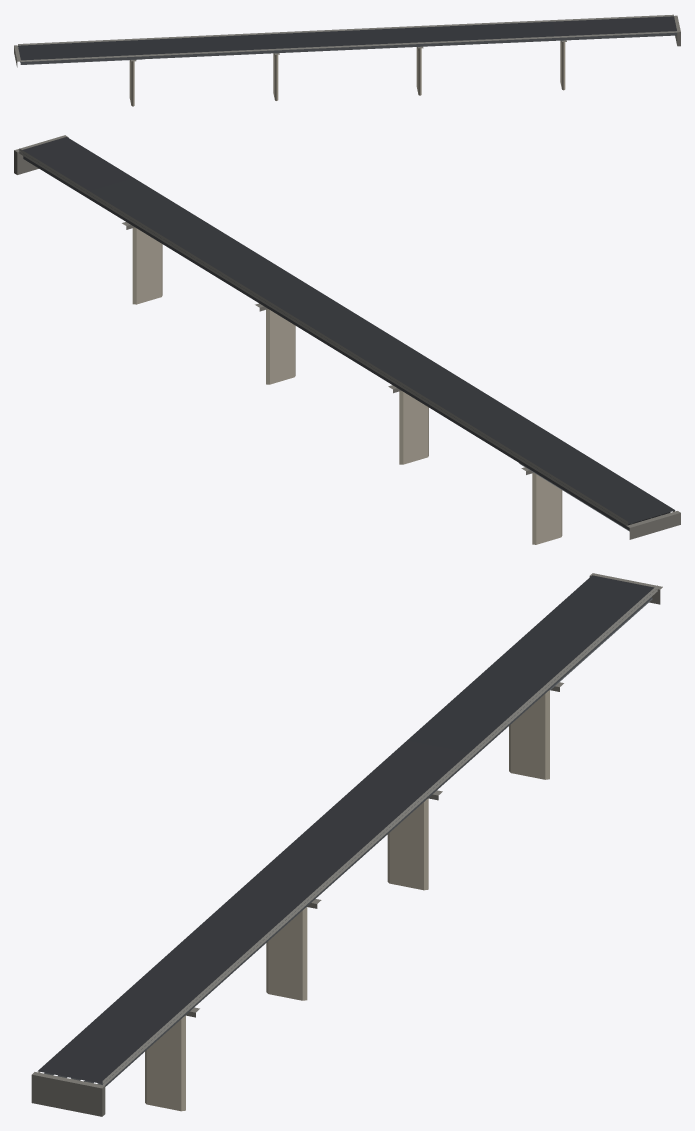
Rendered from br_r21_clover_bar_lod1.gltf.
The picture shows the model from 3 angles, top to bottom: view 1: azimuth 30°, elevation 25°; view 2: azimuth 150°, elevation 25°; view 3: azimuth 270°, elevation 25°; orthographic projection. The views are drawn at different scales.
Visible parts, largest first — view 1: br_r21_clover_bar_lod1; view 2: br_r21_clover_bar_lod1; view 3: br_r21_clover_bar_lod1.
Boxes of the visible parts, x1,y1,x2,y2 form: br_r21_clover_bar_lod1: (14, 14, 680, 106); br_r21_clover_bar_lod1: (14, 135, 680, 544); br_r21_clover_bar_lod1: (31, 573, 662, 1116).
Size of the model in its own units: 301 by 31.9 by 153.
